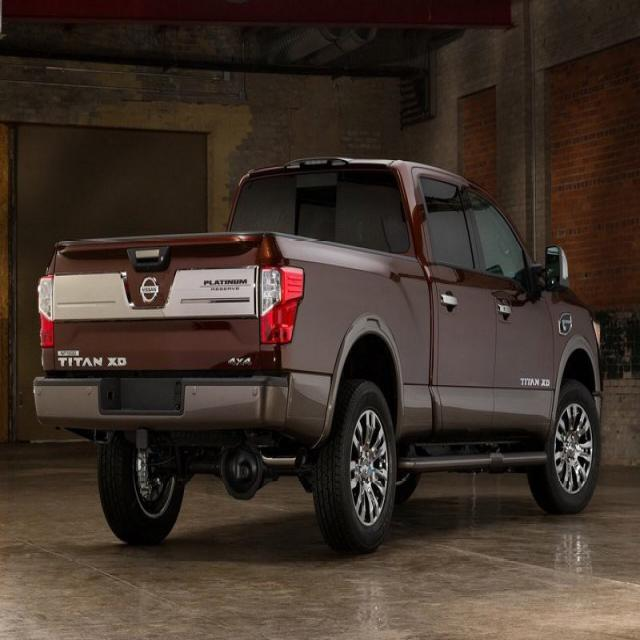back_glass: (227, 170, 411, 254)
back_left_side_light: (35, 274, 58, 349)
back_right_side_light: (256, 264, 305, 346)
door: (416, 172, 498, 457)
front_right_side_door: (463, 176, 558, 436)
front_right_side_mirror: (542, 242, 570, 292)
rear_bumper: (31, 368, 333, 445)
wheel: (318, 385, 396, 549), (98, 438, 186, 539), (534, 382, 598, 512)
